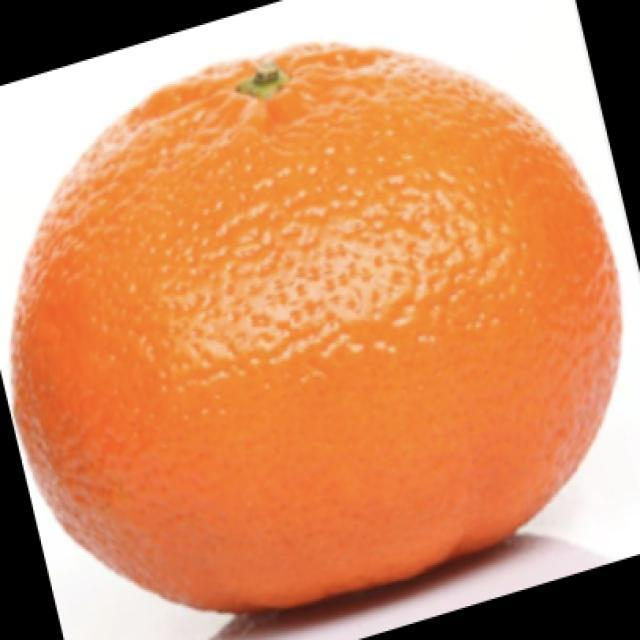matang: (14, 45, 620, 611)
